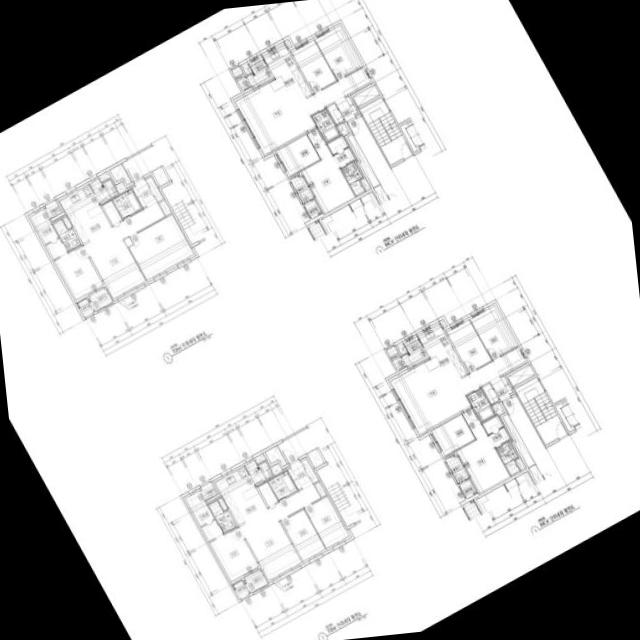background: (0, 0, 640, 640)
space_balconi: (246, 55, 273, 88), (401, 335, 428, 367), (244, 460, 273, 485), (89, 178, 118, 203), (445, 453, 468, 482), (290, 173, 313, 202), (87, 287, 112, 310), (243, 569, 267, 592)
space_bedroom: (456, 407, 510, 492), (301, 127, 355, 212), (128, 213, 193, 279), (209, 526, 258, 581), (54, 245, 103, 299), (469, 304, 517, 359), (314, 25, 361, 79), (446, 319, 491, 372), (291, 39, 336, 92), (280, 508, 325, 560), (304, 495, 348, 547)
space_dressroom: (29, 208, 66, 259), (185, 490, 222, 540), (482, 414, 510, 446), (326, 135, 354, 166)
space_front: (131, 176, 162, 207), (286, 458, 312, 489), (489, 374, 513, 400), (334, 94, 357, 120)
space_kitchen: (214, 465, 267, 524), (417, 323, 466, 385), (262, 43, 311, 105), (59, 184, 111, 242)
space_living_room: (390, 346, 525, 433), (235, 66, 370, 153), (238, 483, 320, 579), (83, 201, 164, 297)
space_multipurpose_space: (431, 413, 474, 455), (276, 134, 319, 175)
space_other: (502, 413, 535, 467), (347, 133, 380, 187), (352, 84, 379, 106), (507, 364, 534, 385), (101, 199, 122, 224), (257, 481, 277, 506), (386, 345, 405, 370), (231, 65, 250, 90), (264, 445, 286, 466), (109, 163, 131, 184), (301, 458, 318, 482), (326, 102, 343, 124), (306, 447, 324, 467), (481, 382, 498, 403), (199, 481, 217, 499), (44, 199, 61, 218), (151, 166, 168, 185), (158, 199, 170, 215), (314, 481, 326, 496), (491, 401, 502, 413), (336, 122, 347, 134), (217, 497, 227, 510), (359, 177, 369, 190), (62, 215, 72, 228), (270, 464, 281, 475), (115, 182, 126, 193), (515, 457, 524, 470), (397, 343, 407, 354), (254, 454, 265, 463), (242, 63, 251, 74), (99, 172, 109, 181), (439, 319, 446, 327), (284, 40, 291, 47)
space_outdoor_room: (231, 579, 249, 598), (459, 478, 476, 498), (304, 198, 321, 218), (76, 297, 93, 316)
space_staircase: (514, 376, 567, 444), (359, 96, 412, 164)
space_toilet: (466, 387, 495, 422), (311, 108, 340, 142), (207, 500, 236, 532), (267, 470, 297, 500), (52, 218, 80, 250), (112, 188, 141, 218), (495, 440, 519, 475), (340, 160, 364, 195)
